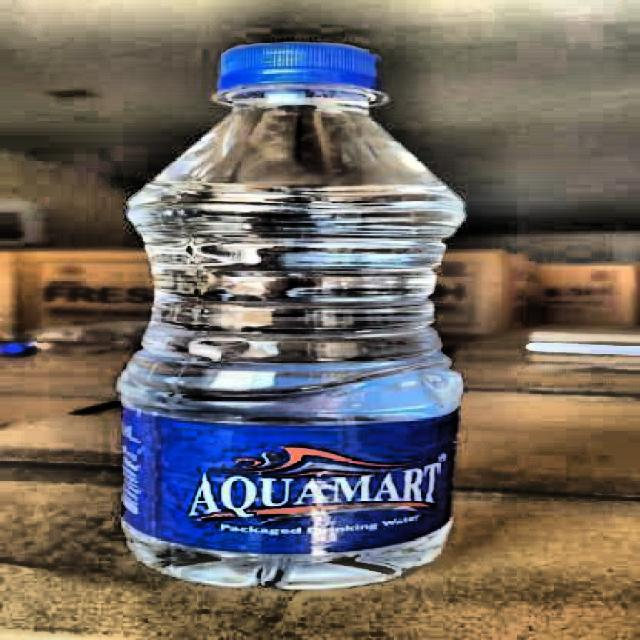Bottles: (93, 44, 493, 616)
